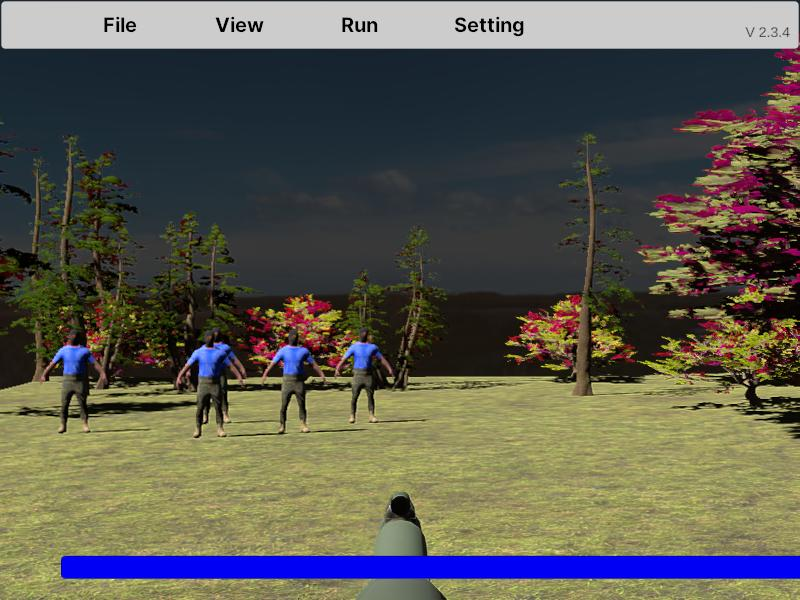Human: (176, 328, 245, 439), (41, 326, 106, 434), (261, 330, 326, 434), (335, 326, 393, 425)
